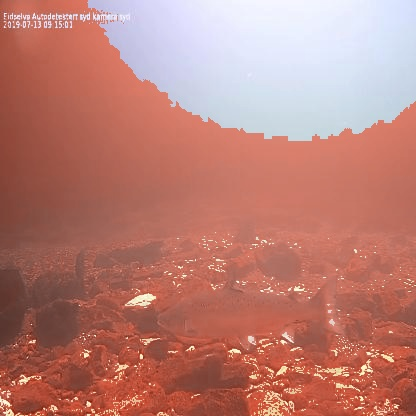salmon: (154, 271, 346, 351)
